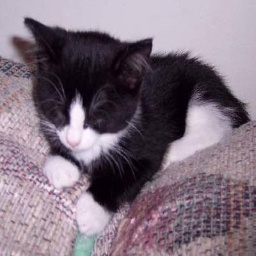cat: (21, 14, 250, 234)
